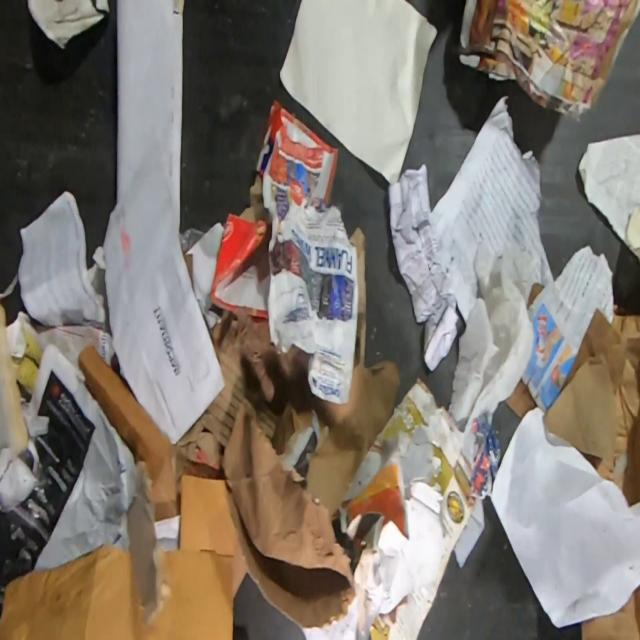cardboard: (76, 228, 402, 522), (0, 474, 248, 640), (222, 397, 354, 628), (368, 444, 476, 640), (376, 377, 456, 443), (581, 583, 640, 640), (504, 378, 536, 417)
soft_plastic: (469, 410, 500, 500), (178, 228, 204, 255)
